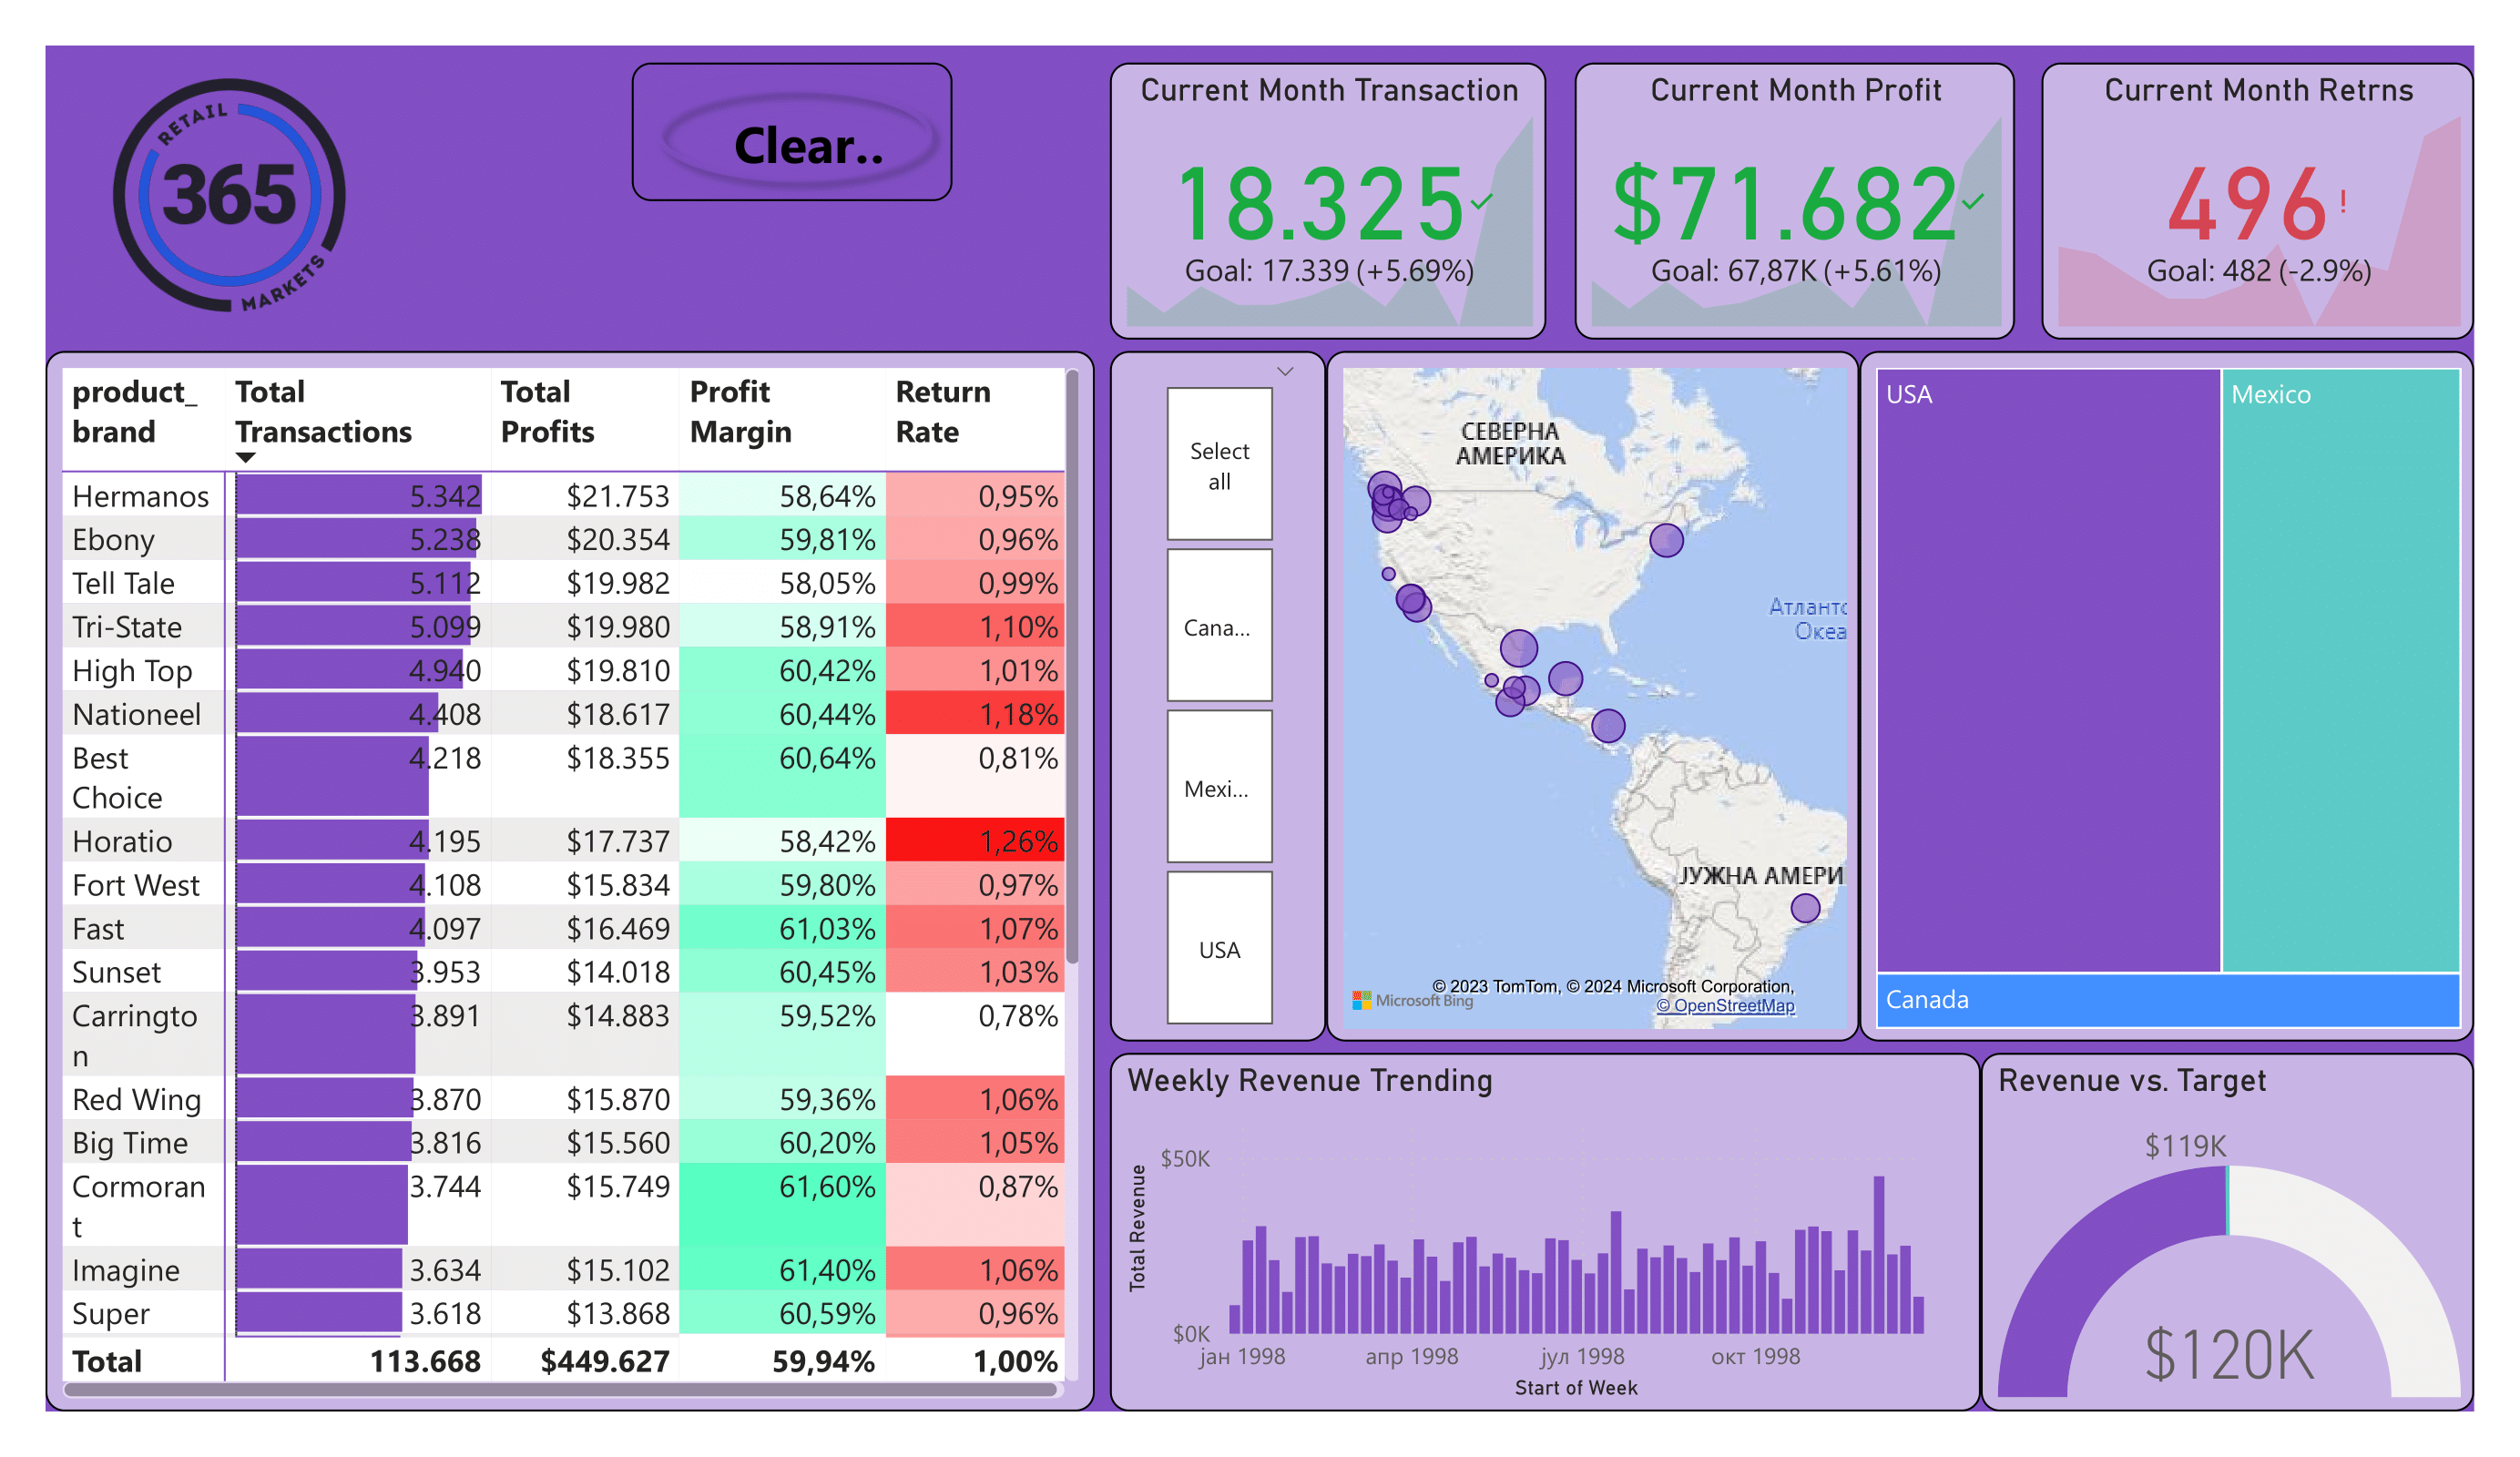

What the dashboard file says about the page in this screenshot:
{"tool":"powerbi","page":{"name":"Topline Performance 1","canvas":[1280,720],"ordinal":0},"visuals":[{"type":"image","box":[0,2.6,193.6,152.4],"z":0},{"type":"pivotTable","fields":{"Values":["KeyMeasures.Total Transactions","KeyMeasures.Total Profits","KeyMeasures.Profit Margin","KeyMeasures.Return Rate"],"Rows":["Products.product_brand"]},"box":[0,161.2,552.7,558.8],"z":1000},{"type":"kpi","title":"Current Month Transaction","fields":{"Indicator":["KeyMeasures.Total Transactions"],"TrendLine":["Calendar.Start of Month"],"Goal":["KeyMeasures.Last Month Transaction"]},"box":[561.5,8.8,229.5,146.3],"z":2000},{"type":"kpi","title":"Current Month Profit","fields":{"TrendLine":["Calendar.Start of Month"],"Indicator":["KeyMeasures.Total Profits"],"Goal":["KeyMeasures.Last Month Profit"]},"box":[805.8,8.8,232.1,146.3],"z":3000},{"type":"kpi","title":"Current Month Retrns","fields":{"TrendLine":["Calendar.Start of Month"],"Indicator":["KeyMeasures.Total Returns"],"Goal":["KeyMeasures.Last Month Returns"]},"box":[1052,8.8,227.7,146.3],"z":4000},{"type":"map","fields":{"Size":["KeyMeasures.Total Transactions"],"Category":["Stores.store_city"]},"box":[675.3,161.2,280.3,363.5],"z":5000},{"type":"slicer","fields":{"Values":["Stores.store_country"]},"box":[561.5,161.2,113.9,363.5],"z":6000},{"type":"treemap","fields":{"Group":["Stores.store_country","Stores.store_state","Stores.store_city"],"Values":["CountNonNull(Stores.store_city)"]},"box":[955.6,161.2,324.1,363.5],"z":7000},{"type":"clusteredColumnChart","title":"Weekly Revenue Trending","fields":{"Y":["KeyMeasures.Total Revenue"],"Category":["Calendar.Start of Week"]},"box":[561.5,530.8,459,189.2],"z":8000},{"type":"gauge","title":"Revenue vs. Target","fields":{"TargetValue":["KeyMeasures.Revenue Target"],"Y":["KeyMeasures.Total Revenue"]},"box":[1020.4,530.8,259.3,189.2],"z":9000},{"type":"actionButton","box":[309.2,8.8,169.1,73.6],"z":10000}]}

Visuals, with their boxes in screenshot pixels (x1, y1, x2, y2):
image: Rect(66, 57, 428, 342)
pivotTable - KeyMeasures.Total Transactions x KeyMeasures.Total Profits: Rect(66, 354, 1101, 1401)
"Current Month Transaction" kpi: Rect(1117, 69, 1547, 343)
"Current Month Profit" kpi: Rect(1575, 69, 2009, 343)
"Current Month Retrns" kpi: Rect(2035, 69, 2462, 343)
map - KeyMeasures.Total Transactions x Stores.store_city: Rect(1331, 354, 1855, 1035)
slicer - Stores.store_country: Rect(1117, 354, 1331, 1035)
treemap - Stores.store_country x Stores.store_state: Rect(1855, 354, 2462, 1035)
"Weekly Revenue Trending" clusteredColumnChart: Rect(1117, 1046, 1976, 1401)
"Revenue vs. Target" gauge: Rect(1976, 1046, 2462, 1401)
actionButton: Rect(645, 69, 962, 207)
